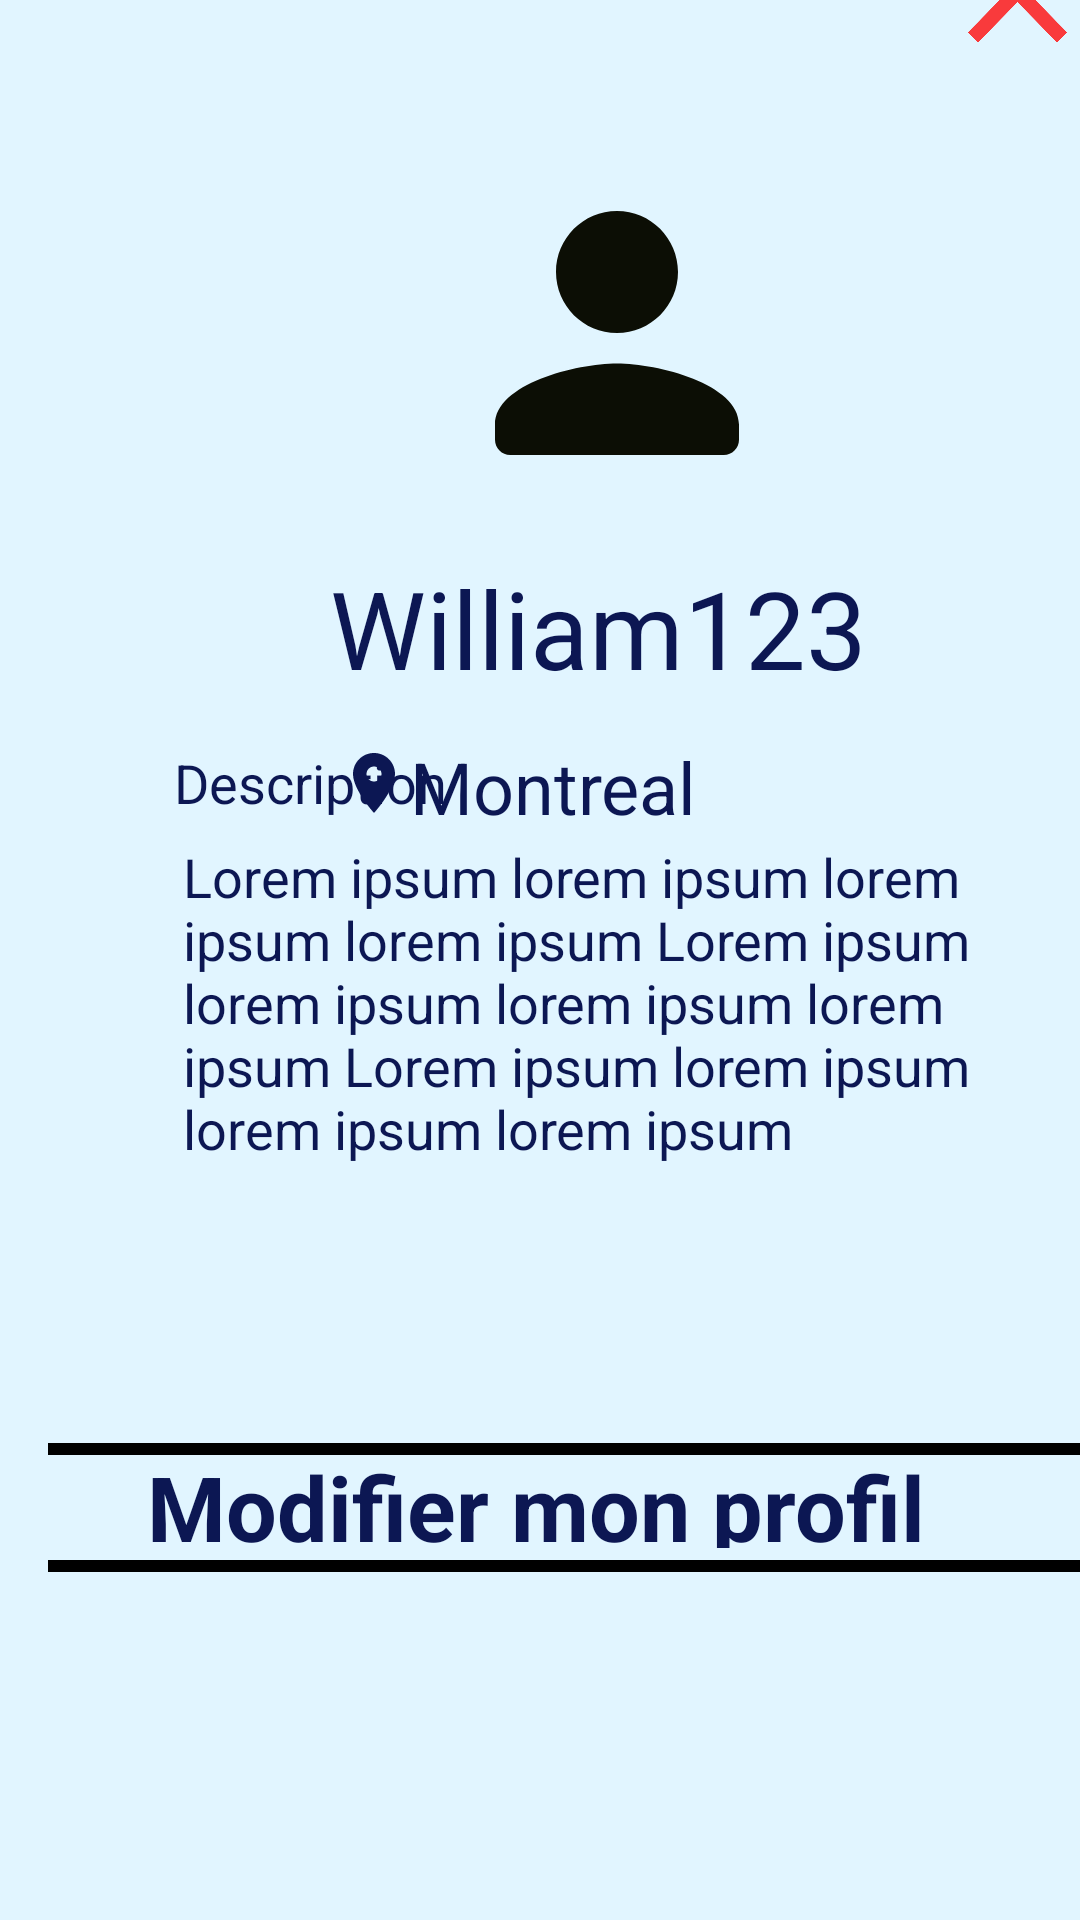

Where icons sit on this 1080 × 1920 app screen, as (left=x1, top=y1, right=x2, bottom=y2):
person: (left=495, top=211, right=739, bottom=455)
